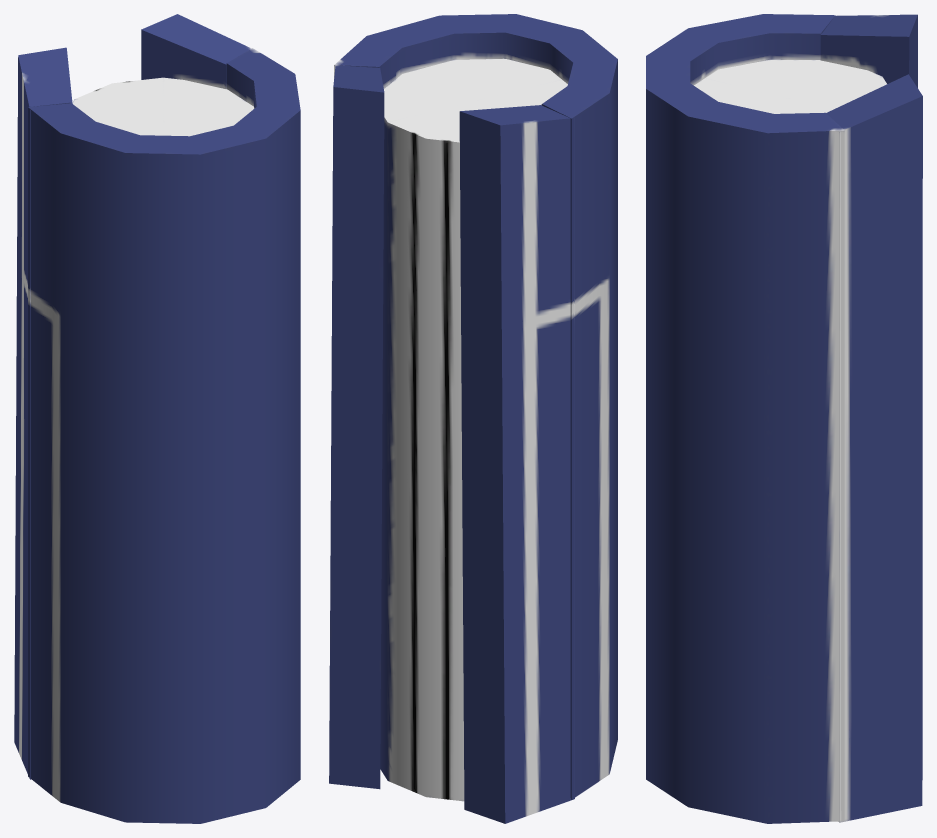
File: buil_5.fbx
The picture shows the model from 3 angles, left to right: view 1: azimuth 30°, elevation 25°; view 2: azimuth 150°, elevation 25°; view 3: azimuth 270°, elevation 25°; orthographic projection. The views are drawn at different scales.
Visible parts, largest first — view 1: node_id5; view 2: node_id5; view 3: node_id5.
Part boxes in pixels (bbox=[...]): node_id5: bbox=[14, 14, 300, 823]; node_id5: bbox=[329, 14, 617, 823]; node_id5: bbox=[646, 14, 922, 823].
Size of the model in its own units: 0.1844 by 0.512 by 0.1809.
Materials: 1 (1 with a texture image).
